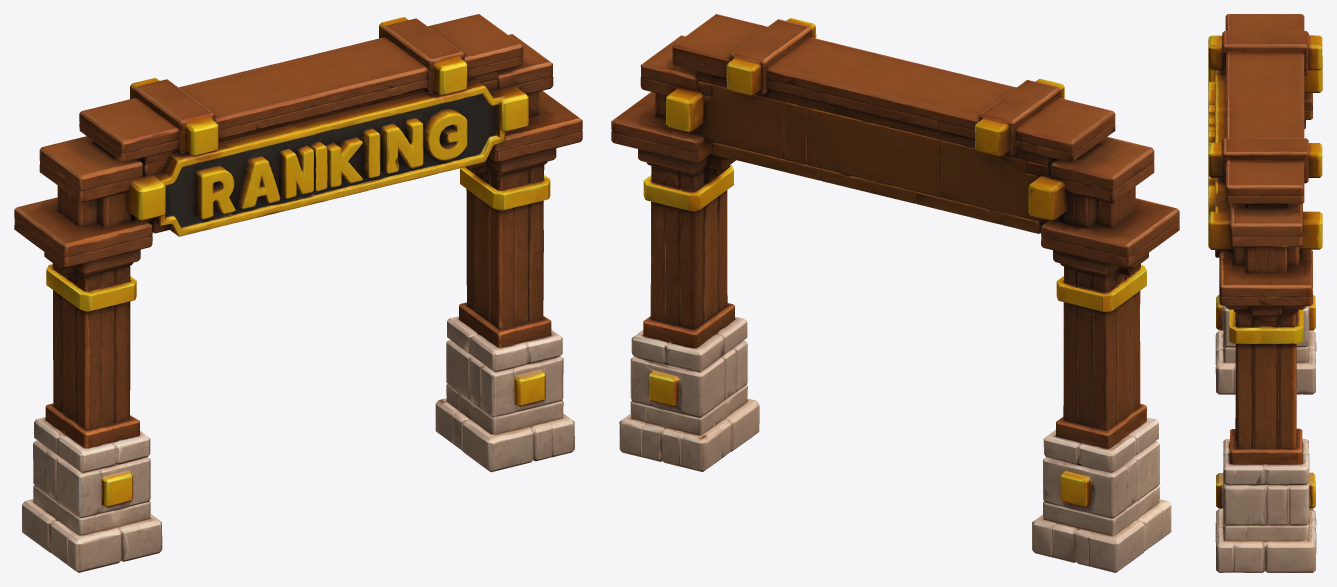
Rendered from ranking-arco.glb.
3 views of the same model, side by side, from view 1: azimuth 30°, elevation 25°; view 2: azimuth 150°, elevation 25°; view 3: azimuth 270°, elevation 25° (orthographic). The views are drawn at different scales.
Parts seen in each view (by area): view 1: logo; view 2: logo; view 3: logo.
Part boxes in pixels (x1,y1,x2,y2): logo: [14, 14, 582, 572]; logo: [611, 14, 1179, 572]; logo: [1208, 14, 1322, 572].
Size of the model in its own units: 0.9809 by 0.7657 by 0.2114.
1 material, 1 textured.
